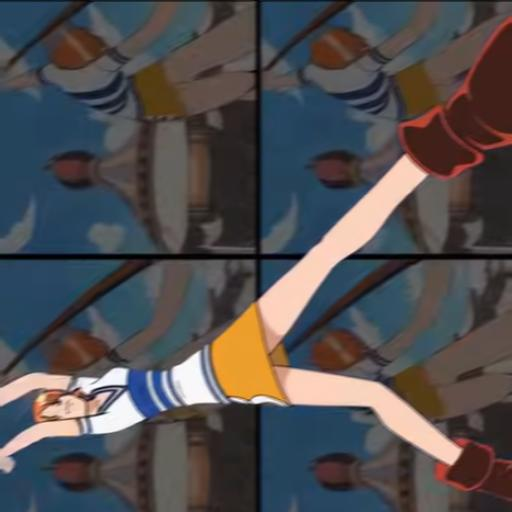Nami: (0, 14, 512, 497)
